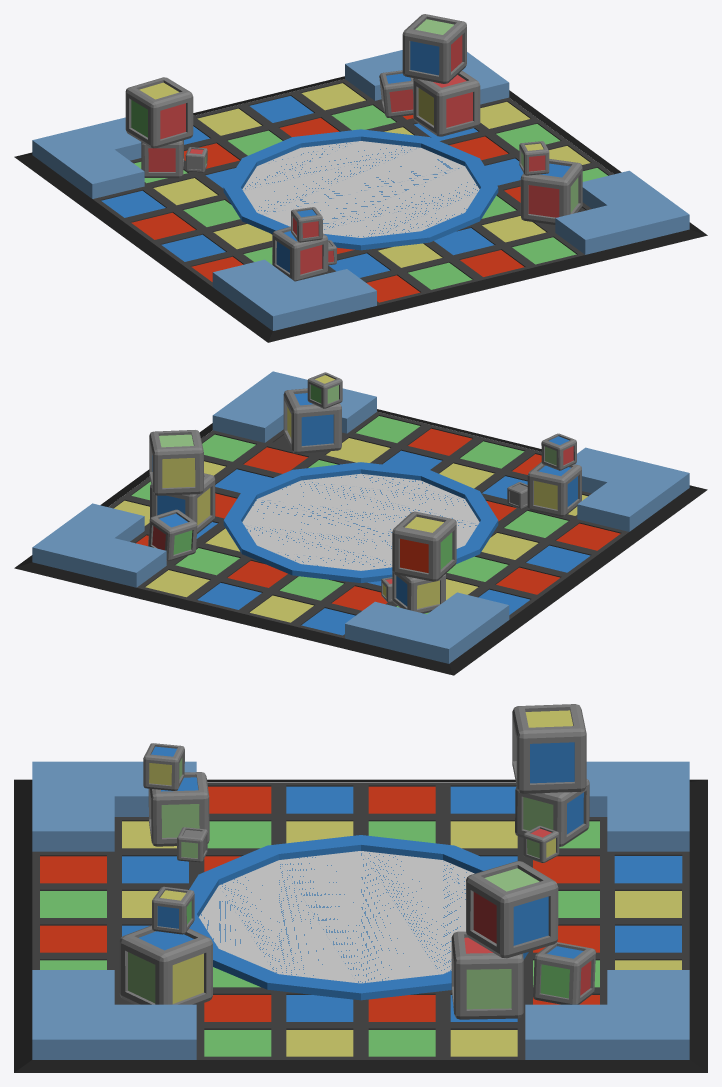
Rendered from Simon_scene.gltf.
3 views of the same model, one above another, from view 1: azimuth 30°, elevation 25°; view 2: azimuth 150°, elevation 25°; view 3: azimuth 270°, elevation 25° (orthographic). The views are drawn at different scales.
Visible parts, largest first — view 1: Circle; view 2: Circle; view 3: Circle.
Part boxes in pixels (x1,y1,x2,y2): Circle: (14, 14, 707, 342); Circle: (14, 371, 707, 675); Circle: (14, 704, 707, 1072).
Bounding box in the file's own units: 10 × 2.14 × 10.
1 material, 1 textured.
